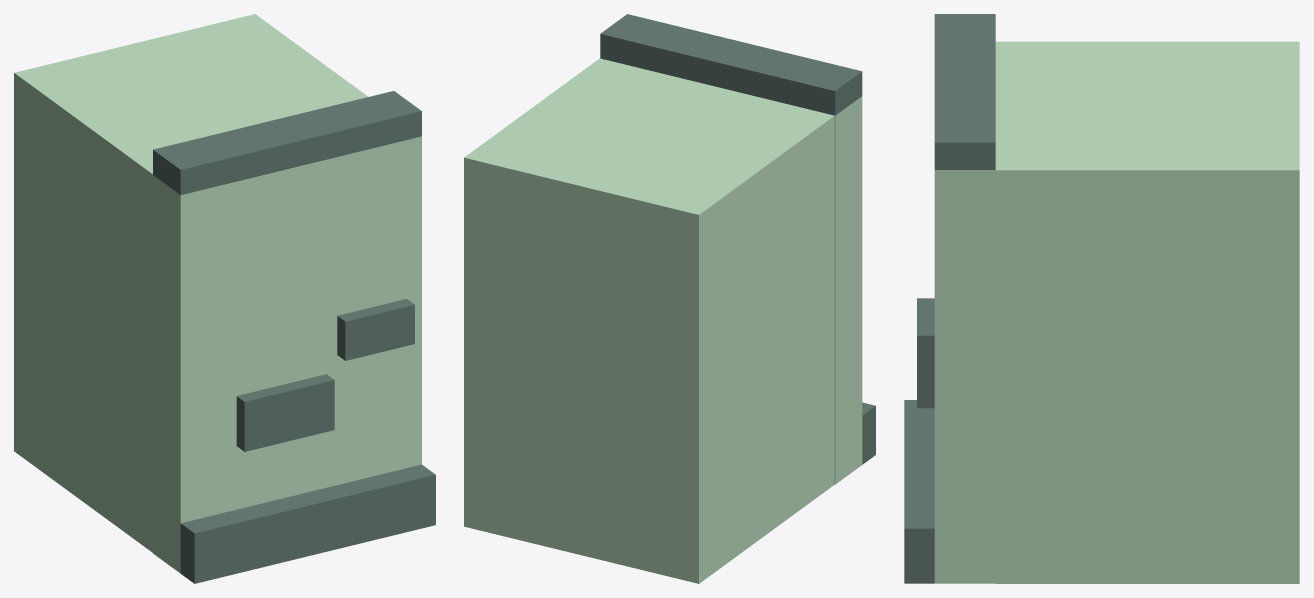
The model's file is Ground3.fbx.
The picture shows the model from 3 angles, left to right: view 1: azimuth 30°, elevation 25°; view 2: azimuth 150°, elevation 25°; view 3: azimuth 270°, elevation 25°; orthographic projection. The views are drawn at different scales.
Visible parts, largest first — view 1: Ground3; view 2: Ground3; view 3: Ground3.
Part boxes in pixels (x1,y1,x2,y2): Ground3: [14, 14, 435, 583]; Ground3: [464, 14, 875, 583]; Ground3: [904, 14, 1299, 583].
Size of the model in its own units: 1 by 1.6 by 1.3.
